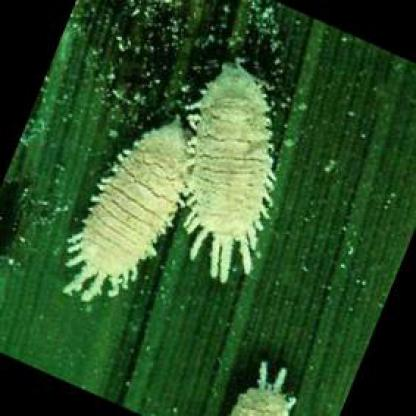mealy bug: (72, 124, 192, 298), (189, 63, 281, 279)
